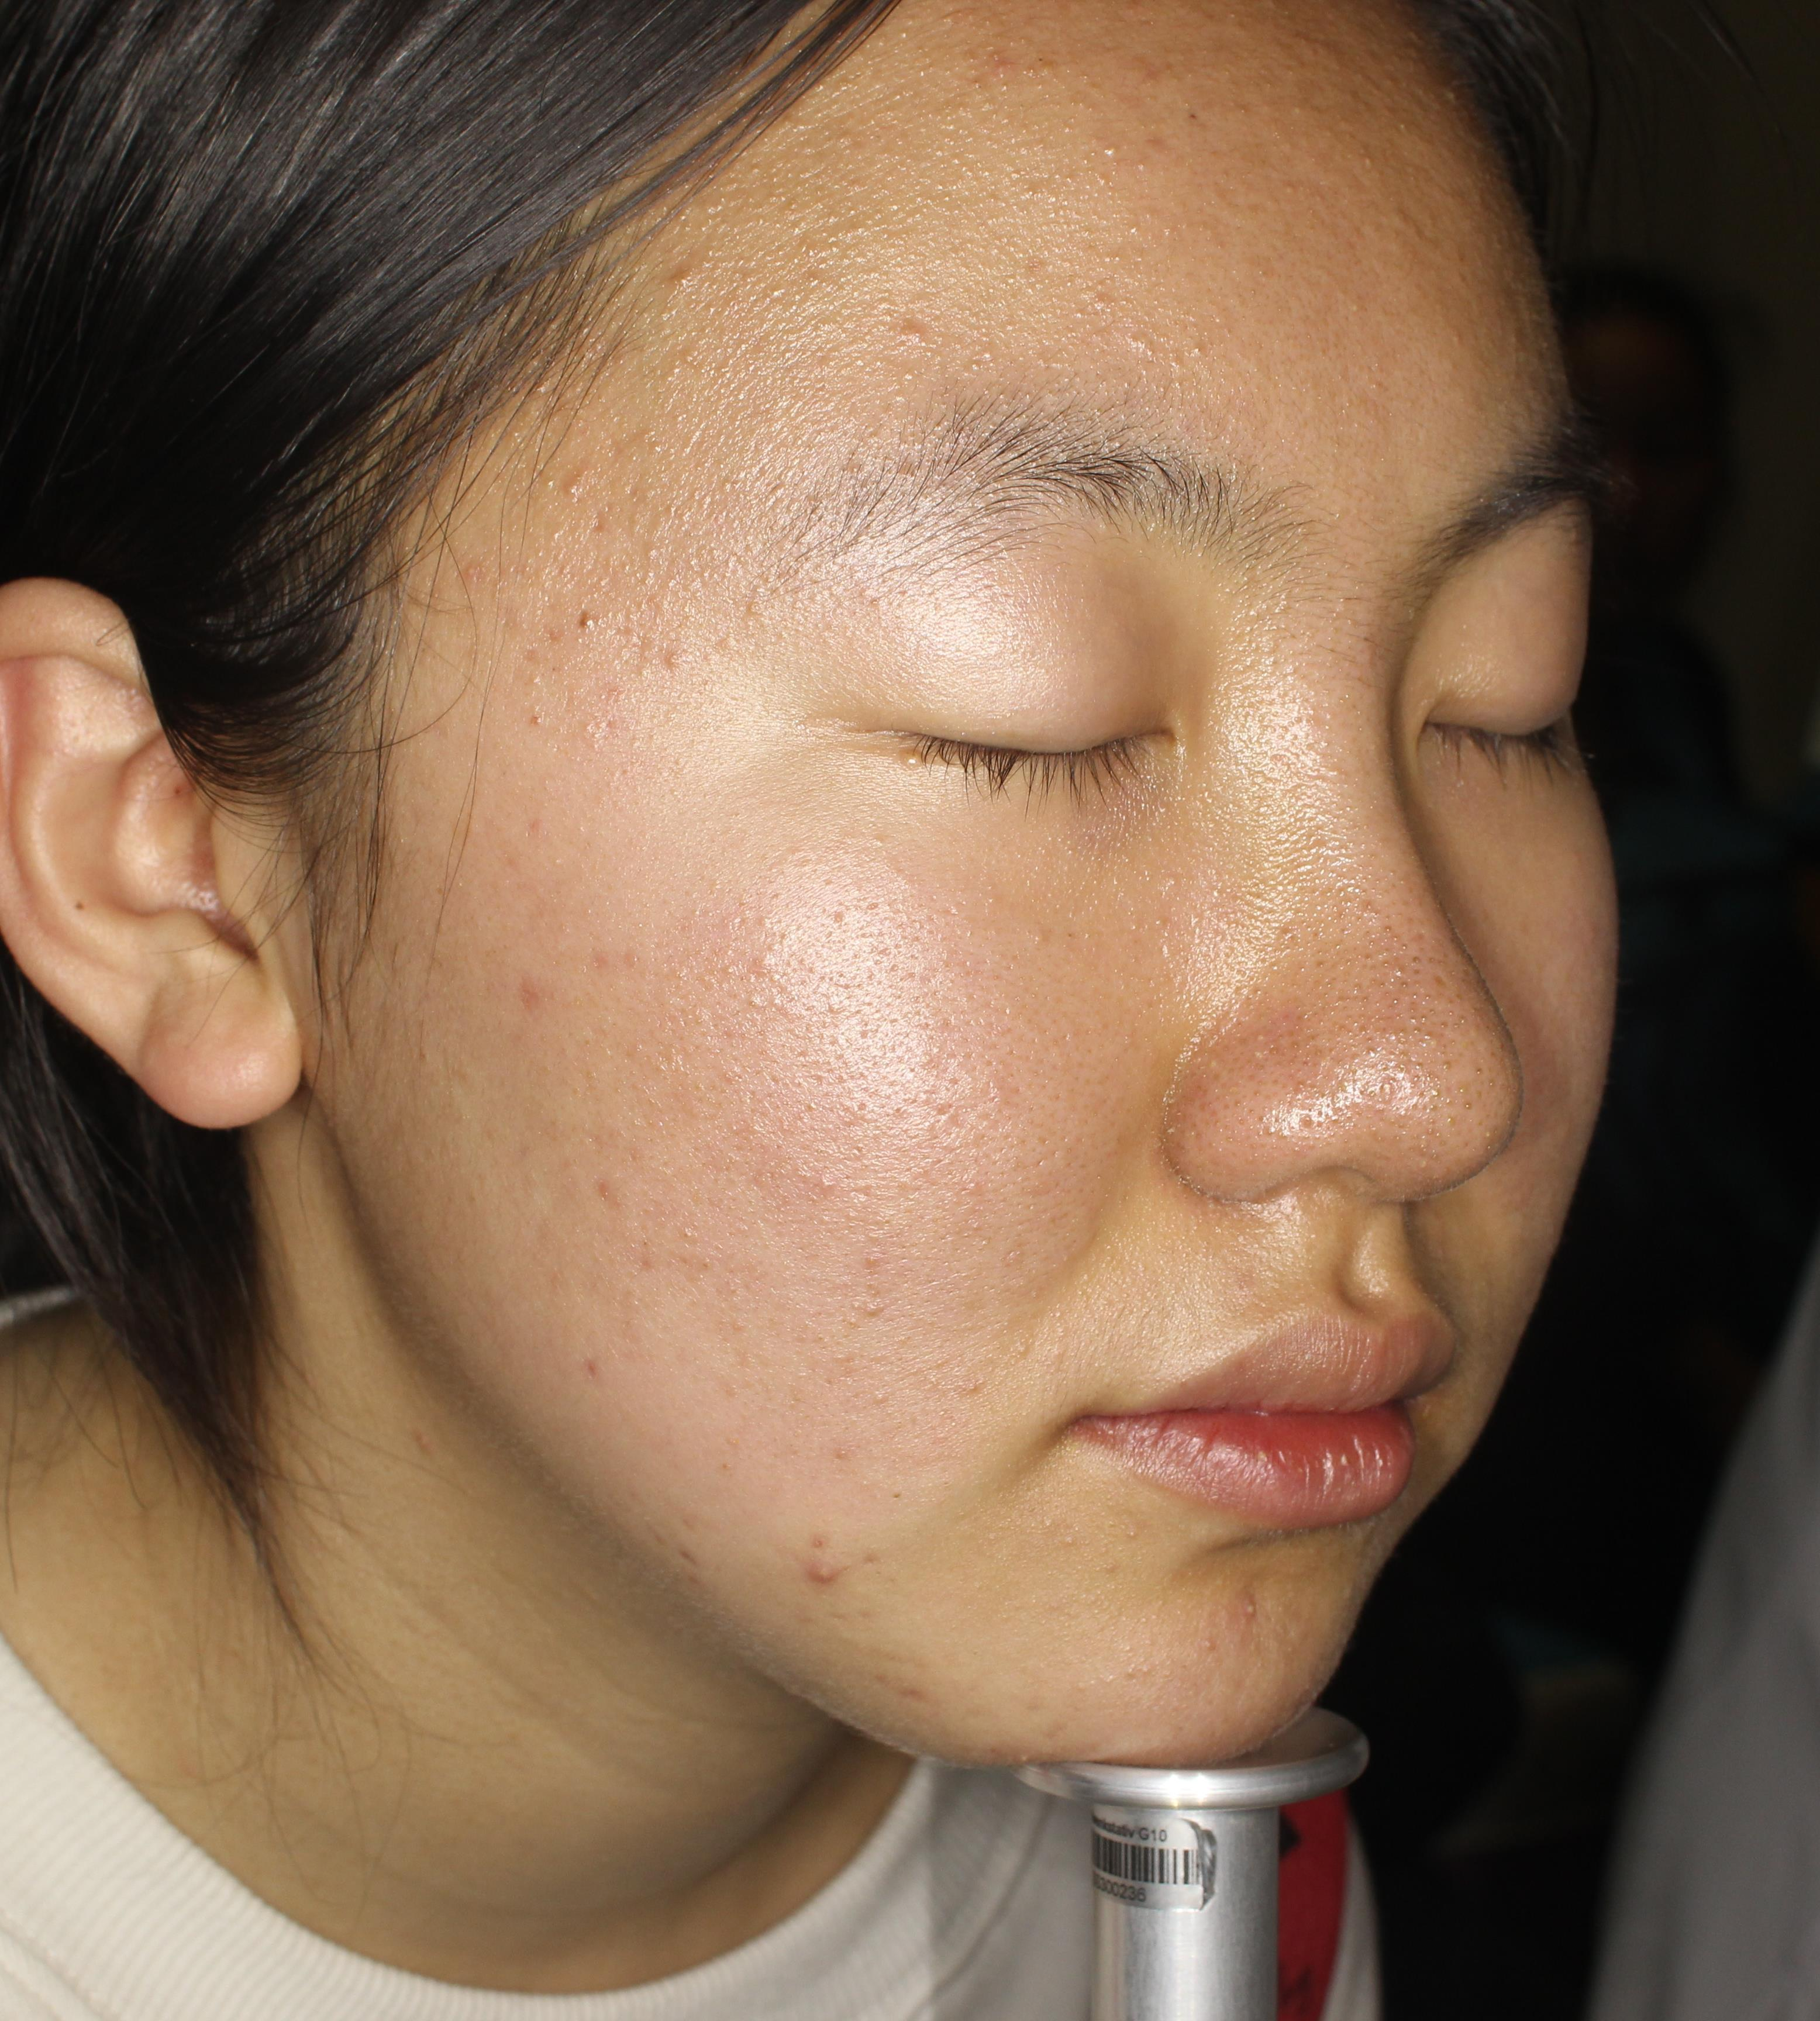fore: (776, 1536, 870, 1629)
